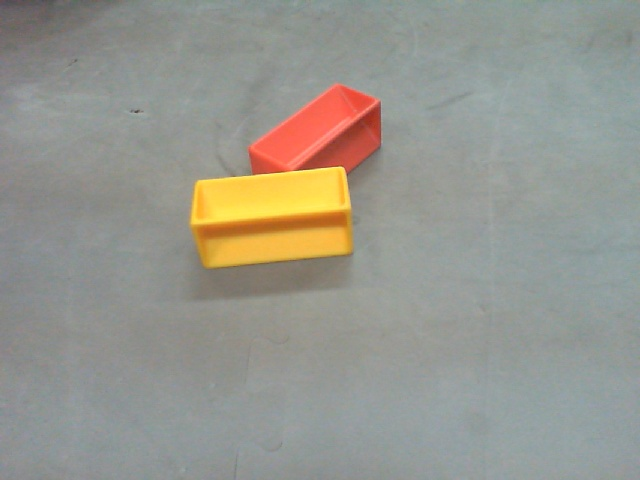RedSample: (252, 81, 384, 176)
YellowSample: (187, 171, 352, 269)
